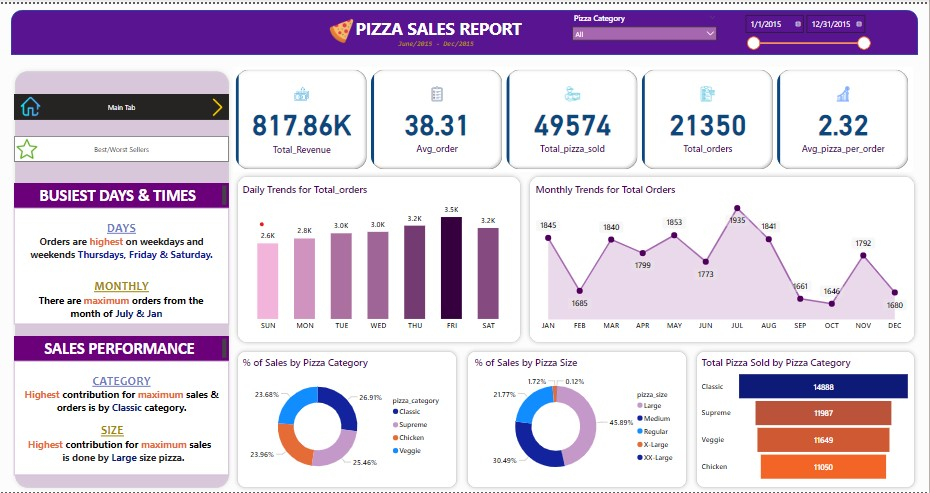

The page's visual inventory and layout, read from the dashboard file:
{"tool":"powerbi","page":{"name":"Main Tab","canvas":[1800,945],"ordinal":0},"visuals":[{"type":"shape","box":[23.2,121.9,429.7,822.6],"z":0},{"type":"cardVisual","fields":{"Data":["new_db pizza_sales.Total_Revenue","new_db pizza_sales.Avg_order","new_db pizza_sales.Total_pizza_sold","new_db pizza_sales.Total_orders","new_db pizza_sales.Avg_pizza_per_order"]},"box":[452.9,121.9,1316.1,203.2],"z":1000},{"type":"shape","box":[24.1,11.1,1755.6,87],"z":2000},{"type":"textbox","box":[667.9,18.9,366,52.8],"z":3000},{"type":"textbox","box":[752.8,62.3,184.9,35.8],"z":4000},{"type":"image","box":[632.1,22.6,60.4,58.5],"z":5000},{"type":"shape","box":[452.9,325.2,565.2,338.7],"z":6000},{"type":"columnChart","title":"Daily Trends for Total_orders","fields":{"Category":["new_db pizza_sales.Order_day"],"Y":["new_db pizza_sales.Total_orders"]},"box":[466.5,346.5,536.1,296.1],"z":7000},{"type":"shape","box":[1018.1,325.2,762.6,338.7],"z":8000},{"type":"areaChart","title":"Monthly Trends for Total Orders","fields":{"Category":["new_db pizza_sales.Order_month"],"Y":["new_db pizza_sales.Total_orders"]},"box":[1033.5,346.5,729.7,296.1],"z":9000},{"type":"shape","box":[452.9,663.9,441.3,280.6],"z":10000},{"type":"shape","box":[898.1,663.9,441.3,280.6],"z":11000},{"type":"shape","box":[1341.3,663.9,439.4,280.6],"z":12000},{"type":"donutChart","title":"% of Sales by Pizza Category","fields":{"Category":["new_db pizza_sales.pizza_category"],"Y":["new_db pizza_sales.Total_Revenue"]},"box":[466.5,681.3,412.3,247.7],"z":13000},{"type":"donutChart","title":"% of Sales by Pizza Size","fields":{"Y":["new_db pizza_sales.Total_Revenue"],"Category":["new_db pizza_sales.pizza_size"]},"box":[915.5,681.3,406.5,247.7],"z":14000},{"type":"funnel","title":"Total Pizza Sold by Pizza Category","fields":{"Category":["new_db pizza_sales.pizza_category"],"Y":["new_db pizza_sales.Total_pizza_sold"]},"box":[1354.8,681.3,414.2,247.7],"z":15000},{"type":"textbox","box":[29,346.5,416.1,48.4],"z":16000},{"type":"textbox","box":[29,394.8,416.1,224.5],"z":17000},{"type":"textbox","box":[29,642.6,416.1,48.4],"z":18000},{"type":"textbox","box":[29,691,416.1,220.6],"z":19000},{"type":"slicer","fields":{"Values":["new_db pizza_sales.pizza_category"]},"box":[1099.4,11.6,300,87.1],"z":20000},{"type":"slicer","fields":{"Values":["new_db pizza_sales.order_date"]},"box":[1432.3,11.6,263.2,87.1],"z":21000},{"type":"pageNavigator","box":[29,174.2,416.1,50.3],"z":22000},{"type":"pageNavigator","box":[29,255.5,416.1,50.3],"z":23000},{"type":"image","box":[400.6,172.3,44.5,54.2],"z":24000},{"type":"image","box":[29,174.2,63.9,48.4],"z":25000},{"type":"image","box":[29,253.5,50.3,54.2],"z":26000}]}

Visuals, with their boxes in screenshot pixels (x1, y1, x2, y2), scaled from the page's 1800x945 canvas onto the 930x493 screenshot:
shape: 12, 64, 234, 492
cardVisual - new_db pizza_sales.Total_Revenue x new_db pizza_sales.Avg_order: 234, 64, 914, 170
shape: 12, 6, 920, 51
textbox: 345, 10, 534, 37
textbox: 389, 33, 484, 51
image: 327, 12, 358, 42
shape: 234, 170, 526, 346
"Daily Trends for Total_orders" columnChart: 241, 181, 518, 335
shape: 526, 170, 920, 346
"Monthly Trends for Total Orders" areaChart: 534, 181, 911, 335
shape: 234, 346, 462, 492
shape: 464, 346, 692, 492
shape: 693, 346, 920, 492
"% of Sales by Pizza Category" donutChart: 241, 355, 454, 485
"% of Sales by Pizza Size" donutChart: 473, 355, 683, 485
"Total Pizza Sold by Pizza Category" funnel: 700, 355, 914, 485
textbox: 15, 181, 230, 206
textbox: 15, 206, 230, 323
textbox: 15, 335, 230, 360
textbox: 15, 360, 230, 476
slicer - new_db pizza_sales.pizza_category: 568, 6, 723, 51
slicer - new_db pizza_sales.order_date: 740, 6, 876, 51
pageNavigator: 15, 91, 230, 117
pageNavigator: 15, 133, 230, 160
image: 207, 90, 230, 118
image: 15, 91, 48, 116
image: 15, 132, 41, 161
